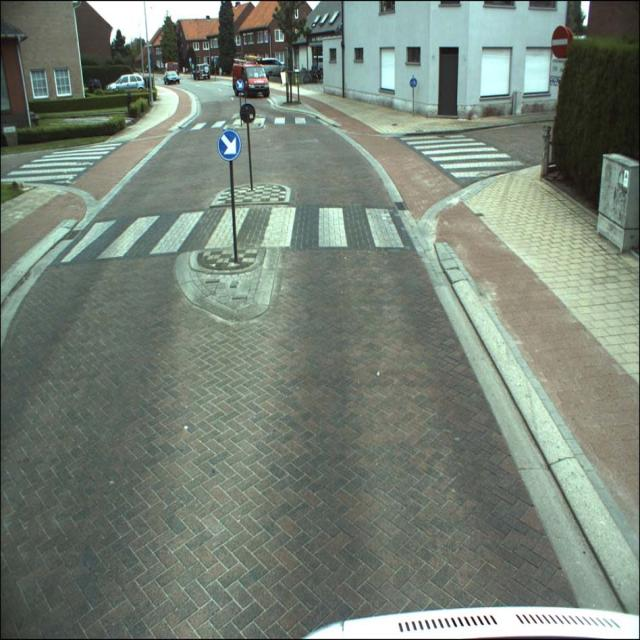girisyok: (551, 25, 568, 60)
